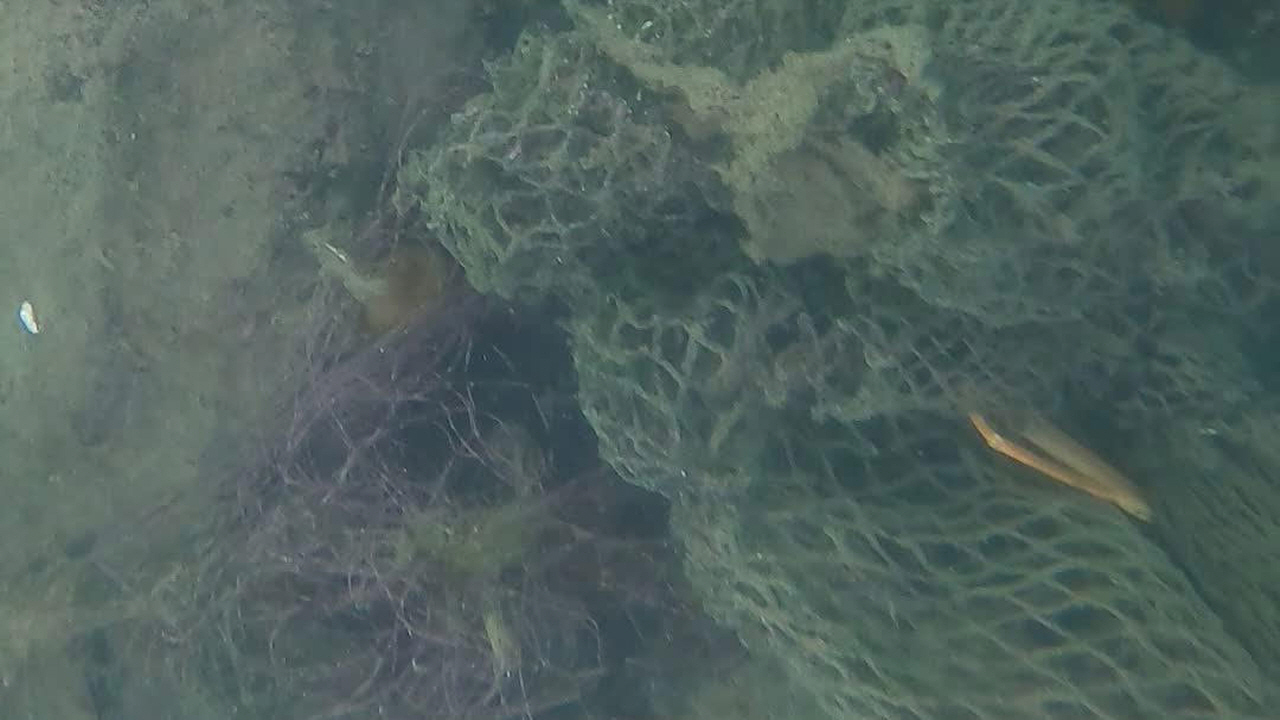fish net: (418, 0, 1280, 720)
